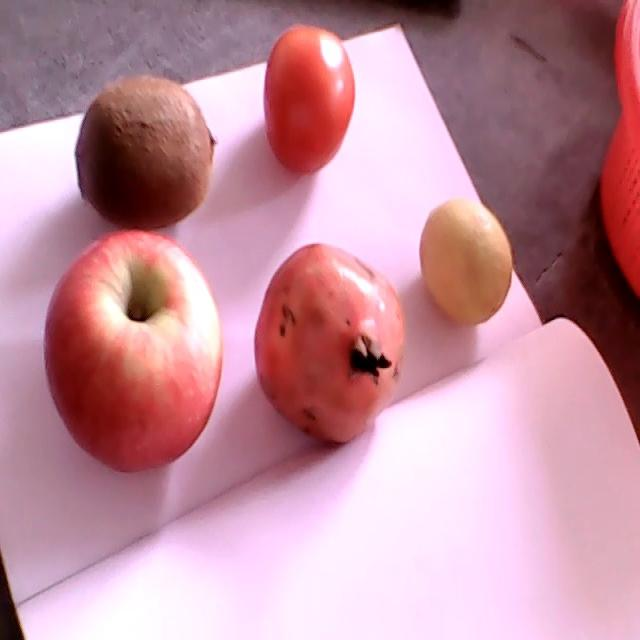apple: (44, 230, 223, 473)
kiwi: (75, 76, 217, 231)
lemon: (420, 197, 513, 327)
pomegranate: (255, 244, 407, 441)
tomato: (263, 25, 355, 174)
